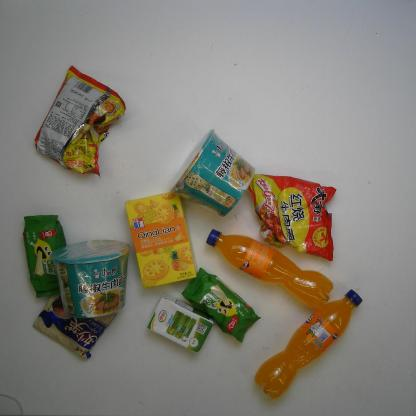Dessert: (125, 192, 197, 290), (177, 265, 263, 344), (31, 287, 114, 361), (21, 212, 72, 296)
Drink: (250, 286, 364, 404), (204, 228, 336, 308)
Instant Noodles: (30, 63, 132, 183), (250, 169, 338, 262), (46, 236, 134, 322), (172, 126, 252, 218)
Milk: (144, 297, 212, 352)
